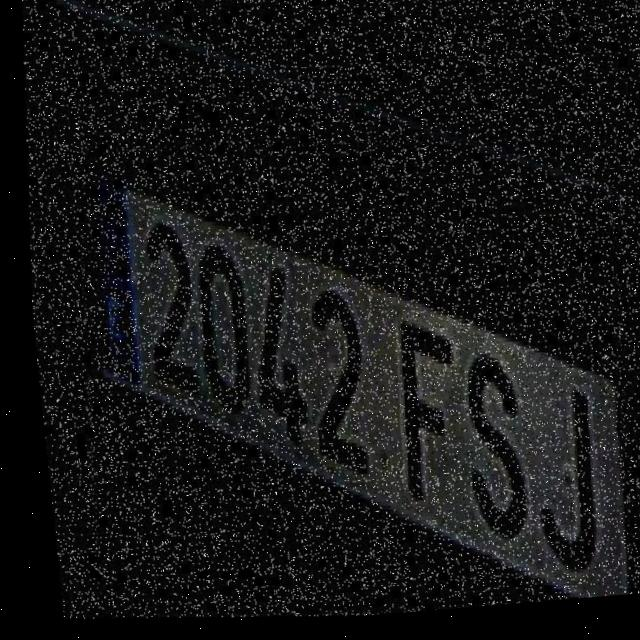LicensePlate: (39, 108, 640, 638)
